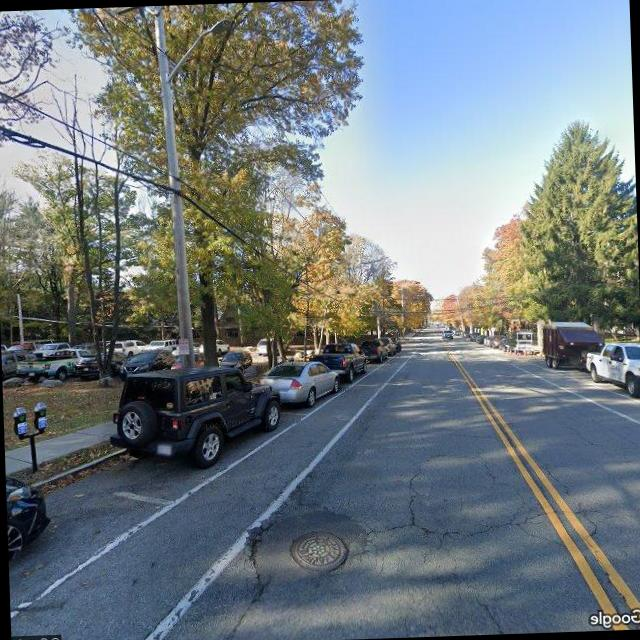crack: (340, 435, 618, 627)
